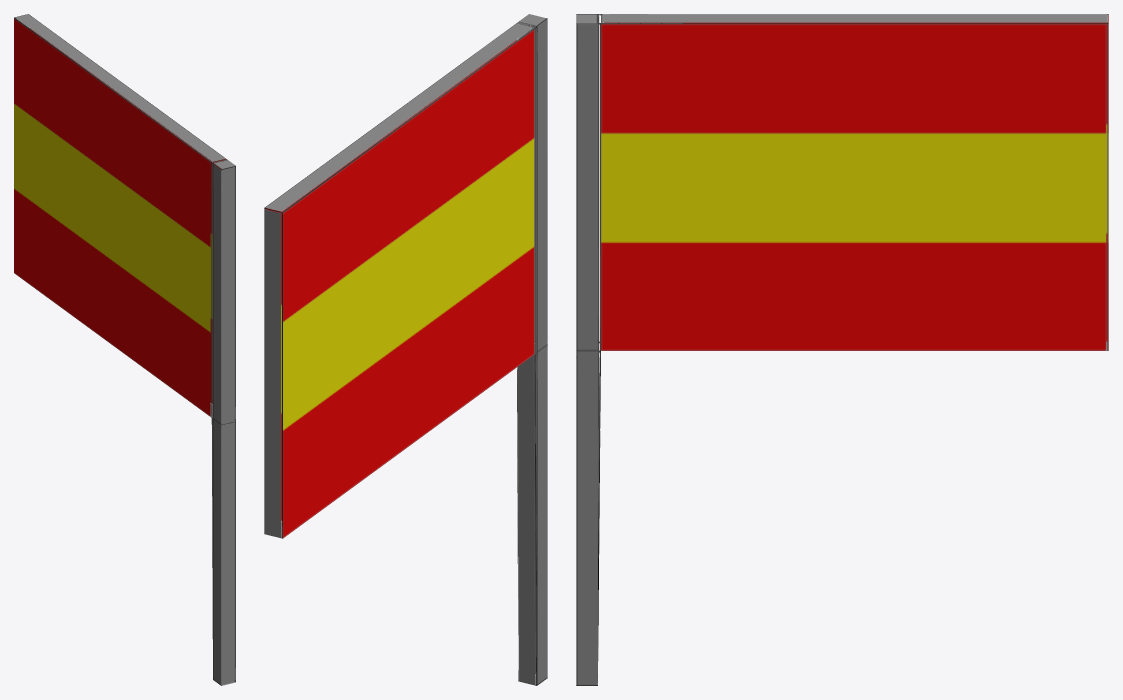
The model's file is flag.obj.
3 views of the same model, side by side, from view 1: azimuth 30°, elevation 25°; view 2: azimuth 150°, elevation 25°; view 3: azimuth 270°, elevation 25° (orthographic). The views are drawn at different scales.
Parts seen in each view (by area): view 1: Cube_Cube.001; view 2: Cube_Cube.001; view 3: Cube_Cube.001.
Boxes of the visible parts, left/top/right/bottom form: Cube_Cube.001: left=14, top=14, right=235, bottom=685; Cube_Cube.001: left=264, top=14, right=547, bottom=685; Cube_Cube.001: left=576, top=14, right=1108, bottom=685.
Bounding box in the file's own units: 2 × 67.82 × 49.35.
